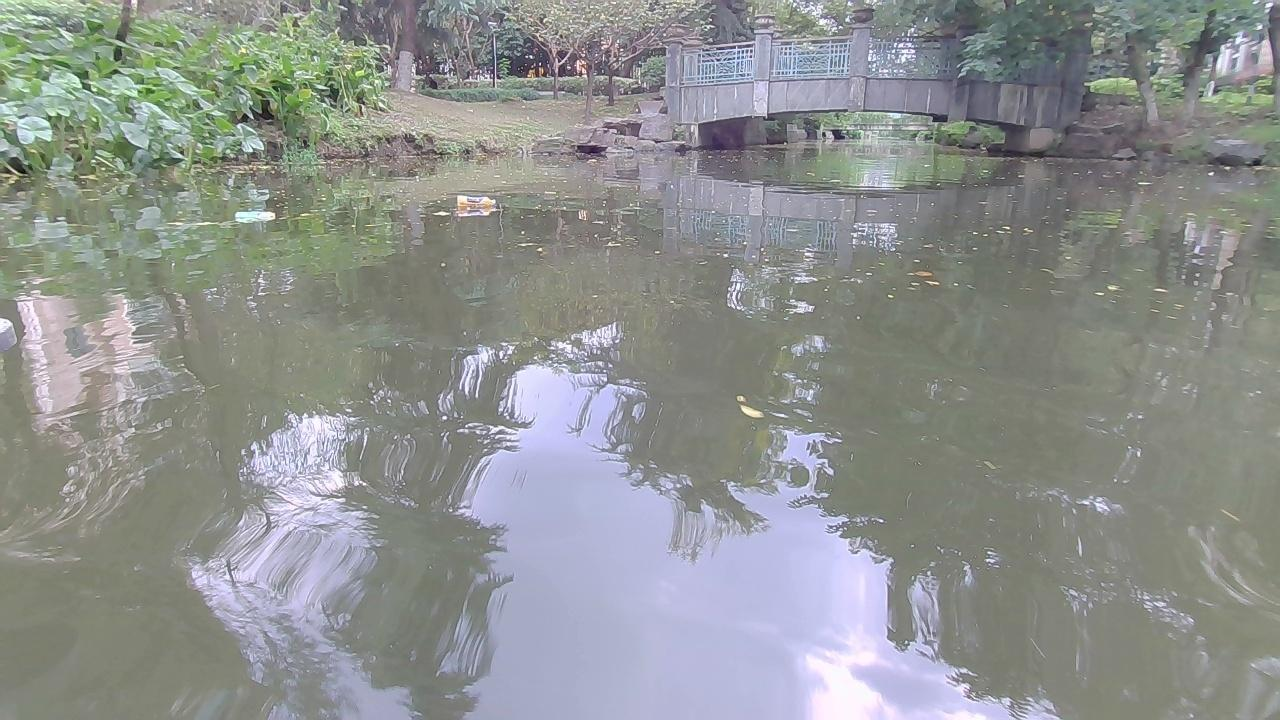bottle: (454, 194, 495, 207)
